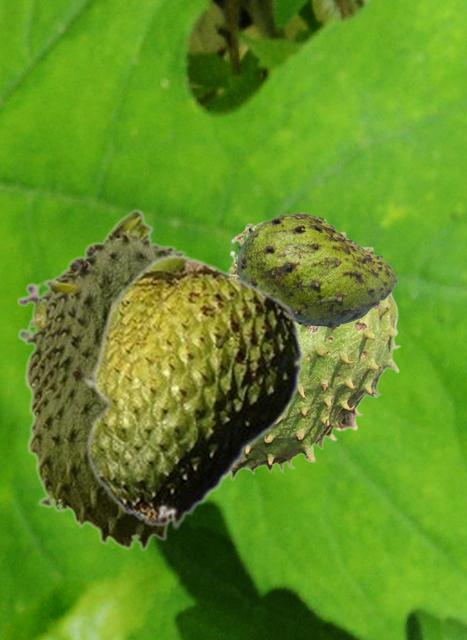guyabano: (82, 253, 304, 530), (17, 207, 189, 550), (227, 217, 400, 480), (235, 212, 396, 327)
